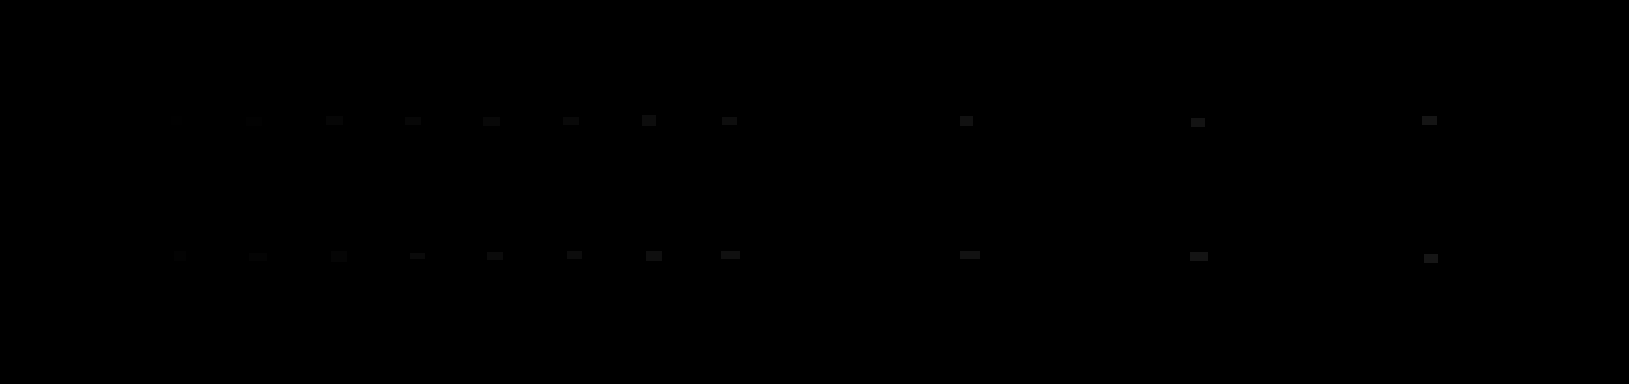light: (960, 251, 980, 259), (331, 251, 347, 262), (721, 251, 740, 259), (1190, 252, 1208, 260), (646, 251, 662, 260), (642, 115, 656, 126), (326, 116, 343, 125), (483, 117, 500, 126), (246, 117, 262, 126), (487, 252, 503, 260), (249, 253, 267, 260), (960, 116, 973, 126), (567, 251, 582, 259), (1191, 118, 1205, 127), (1422, 116, 1437, 125), (173, 251, 186, 260), (405, 117, 421, 125), (563, 117, 579, 125), (1424, 254, 1438, 263), (722, 117, 737, 125), (410, 253, 425, 259), (171, 116, 182, 125)
